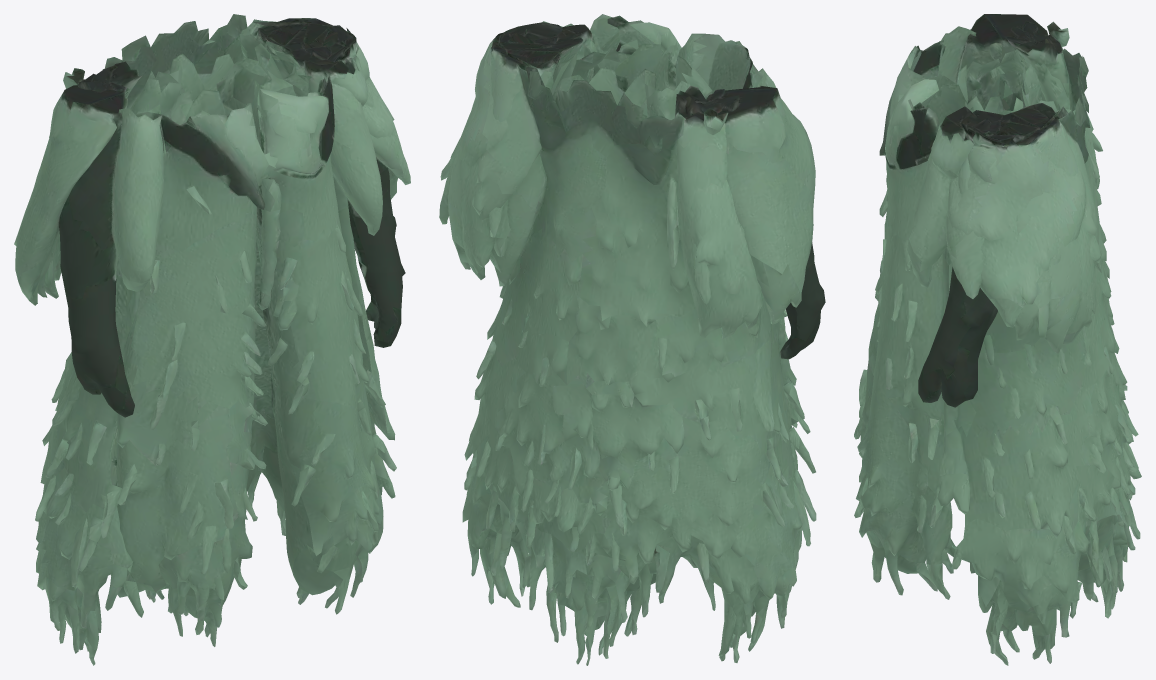
File: cape-sage.opt.glb
3 views of the same model, side by side, from view 1: azimuth 30°, elevation 25°; view 2: azimuth 150°, elevation 25°; view 3: azimuth 270°, elevation 25° (orthographic). The views are drawn at different scales.
Size of the model in its own units: 0.9785 by 1.48 by 0.7006.
1 material, 1 textured.
